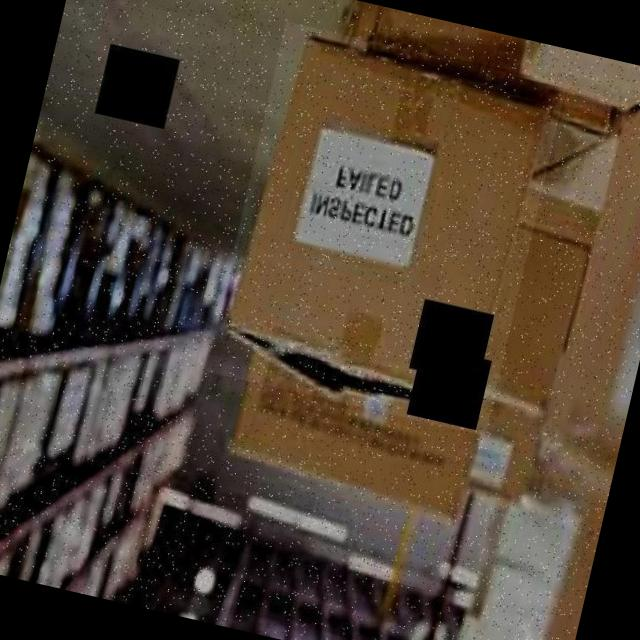box: (206, 21, 567, 436)
